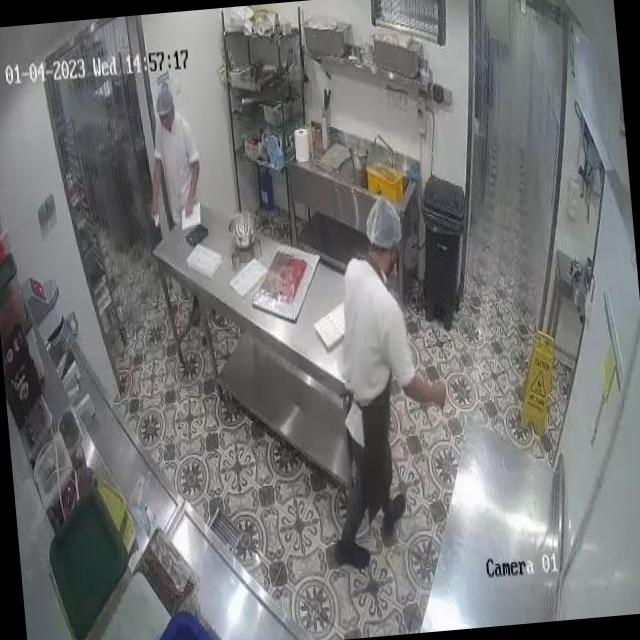hairnet: (368, 195, 402, 249), (154, 86, 174, 116)
